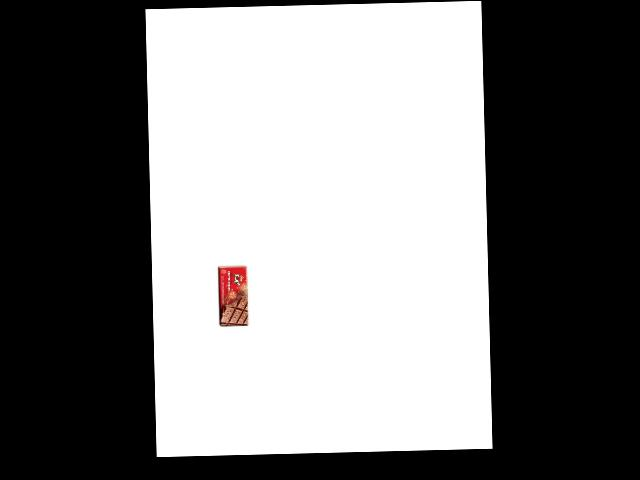chocolate: (216, 264, 249, 328)
